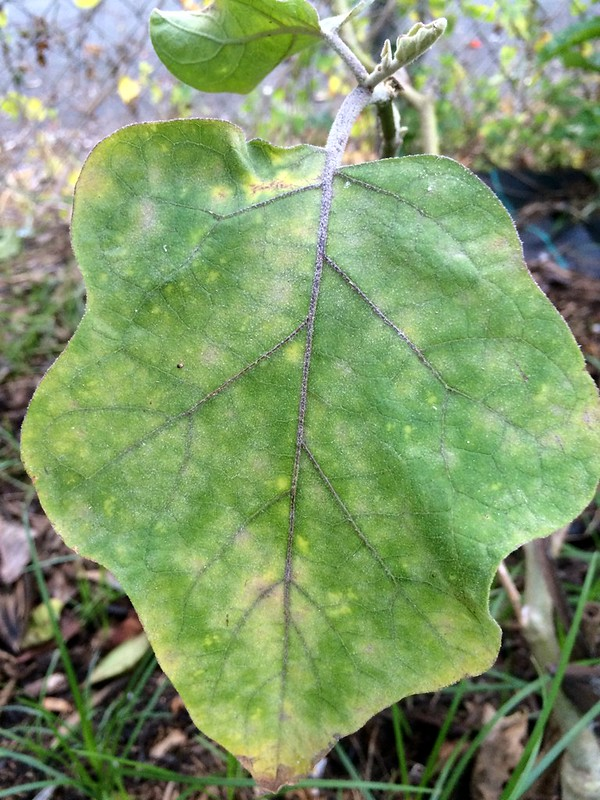Eggplant_PowderyMildew: (59, 129, 574, 751)
